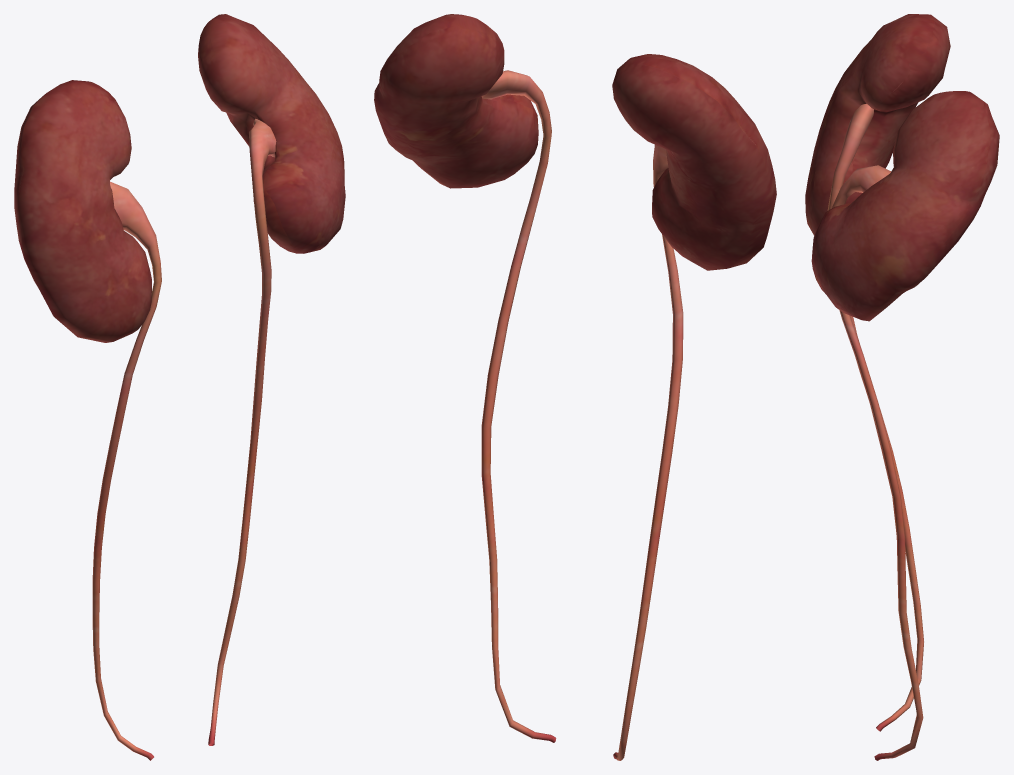
The model's file is 4.1 Kidny.glb.
The picture shows the model from 3 angles, left to right: view 1: azimuth 30°, elevation 25°; view 2: azimuth 150°, elevation 25°; view 3: azimuth 270°, elevation 25°; orthographic projection. The views are drawn at different scales.
Visible parts, largest first — view 1: R_Kidney, L_Kidney, L_Ureter, R_Ureter; view 2: R_Kidney, L_Kidney, L_Ureter, R_Ureter; view 3: L_Kidney, R_Kidney, L_Ureter, R_Ureter.
Boxes of the visible parts, left/top/right/bottom form: R_Kidney: left=14, top=80, right=151, bottom=342; L_Kidney: left=198, top=14, right=345, bottom=253; L_Ureter: left=208, top=118, right=276, bottom=745; R_Ureter: left=92, top=181, right=161, bottom=760; R_Kidney: left=612, top=54, right=776, bottom=270; L_Kidney: left=374, top=14, right=538, bottom=188; L_Ureter: left=481, top=70, right=556, bottom=742; R_Ureter: left=613, top=144, right=683, bottom=760; L_Kidney: left=811, top=91, right=999, bottom=321; R_Kidney: left=805, top=14, right=950, bottom=235; L_Ureter: left=832, top=165, right=923, bottom=760; R_Ureter: left=827, top=103, right=923, bottom=731.
Size of the model in its own units: 0.1535 by 0.3014 by 0.0765.
1 material, 1 textured.
